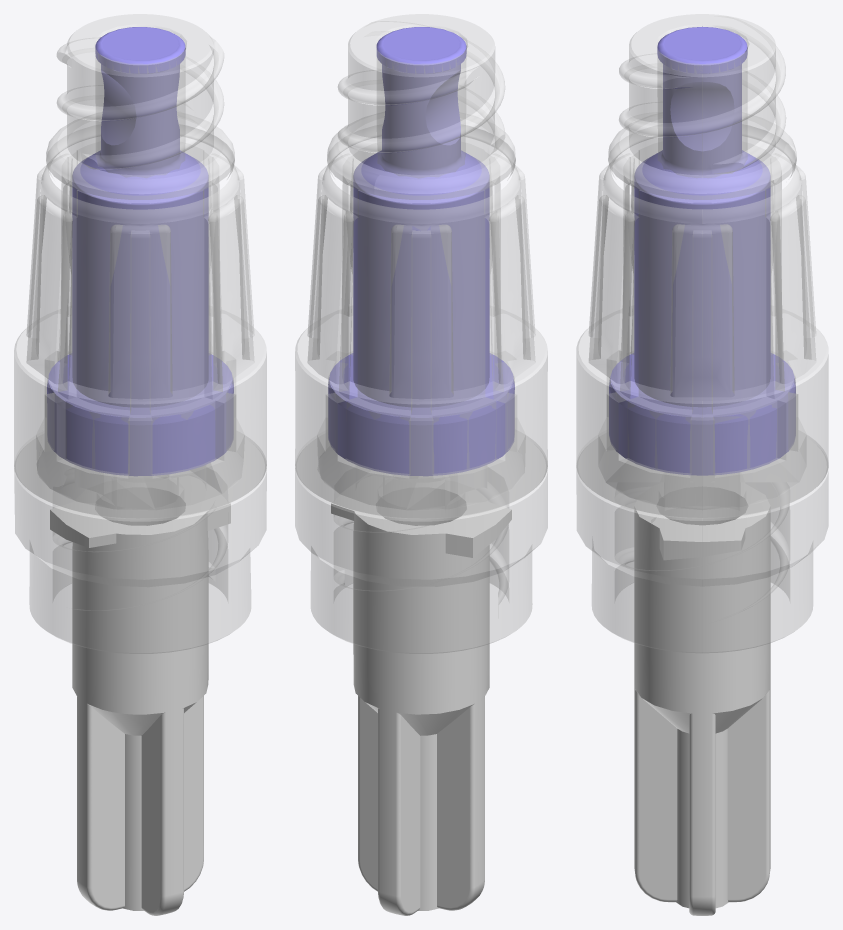
3 views of the same model, side by side, from view 1: azimuth 30°, elevation 25°; view 2: azimuth 150°, elevation 25°; view 3: azimuth 270°, elevation 25° (orthographic).
Parts seen in each view (by area): view 1: MaxZeroConector_Export; view 2: MaxZeroConector_Export; view 3: MaxZeroConector_Export.
Boxes of the visible parts, <box> form: MaxZeroConector_Export: <box>14,14,266,915</box>; MaxZeroConector_Export: <box>295,14,547,915</box>; MaxZeroConector_Export: <box>576,14,828,915</box>.
Bounding box in the file's own units: 0.0178 × 0.0663 × 0.0178.
